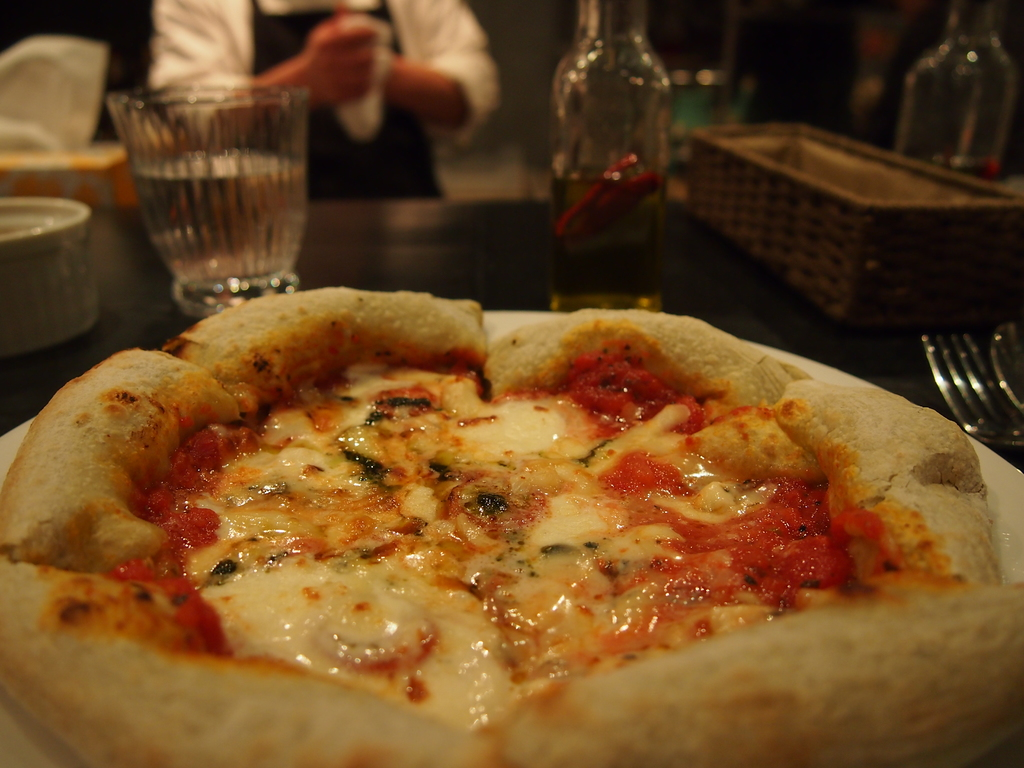Pizza: (0, 284, 999, 755)
